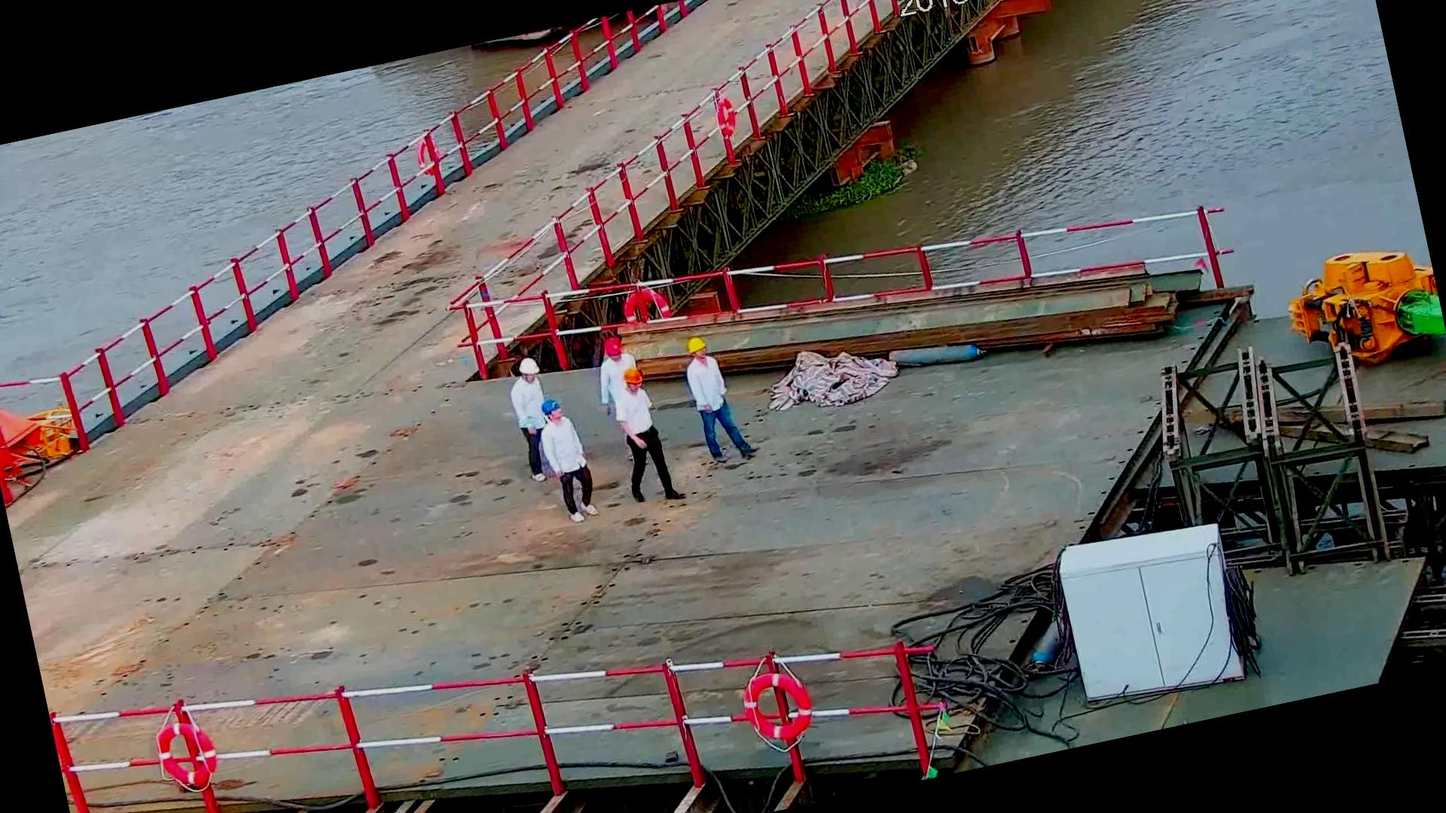helmet: (681, 330, 715, 366)
no_vest: (537, 416, 590, 484), (616, 382, 668, 449), (686, 357, 736, 421)
person: (675, 326, 763, 479), (602, 358, 683, 509), (531, 396, 612, 522), (498, 352, 558, 482)
